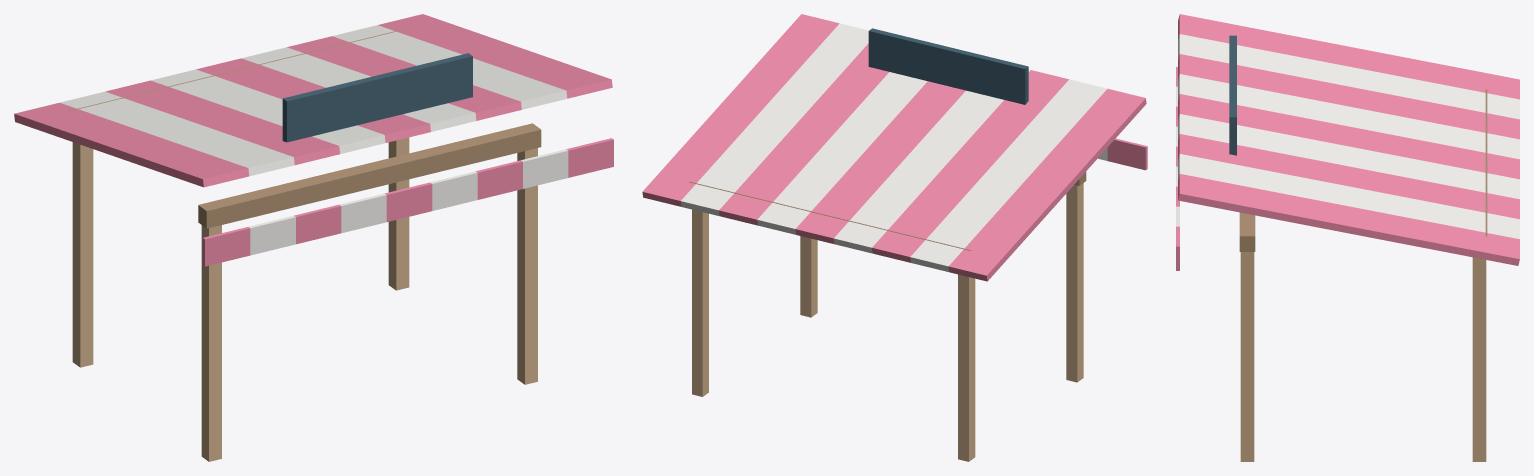
File: KioskCoral.fbx
3 views of the same model, side by side, from view 1: azimuth 30°, elevation 25°; view 2: azimuth 150°, elevation 25°; view 3: azimuth 270°, elevation 25° (orthographic). The views are drawn at different scales.
Visible parts, largest first — view 1: KioskCoral; view 2: KioskCoral; view 3: KioskCoral.
Boxes of the visible parts, x1,y1,x2,y2 form: KioskCoral: (14, 14, 613, 461); KioskCoral: (642, 14, 1147, 461); KioskCoral: (1176, 14, 1519, 461).
Size of the model in its own units: 4.4 by 3.57 by 3.56.
